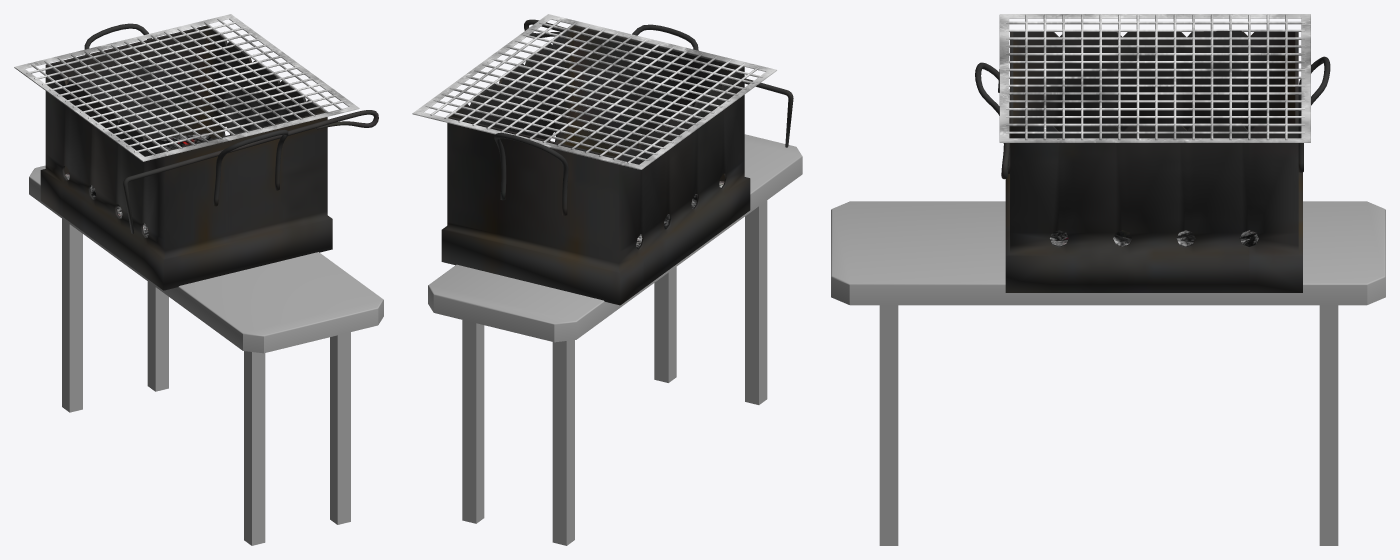
Rendered from scene_barbecue.fbx.
3 views of the same model, side by side, from view 1: azimuth 30°, elevation 25°; view 2: azimuth 150°, elevation 25°; view 3: azimuth 270°, elevation 25° (orthographic). The views are drawn at different scales.
Parts seen in each view (by area): view 1: scene_barbecue_part1, scene_barbecue_part0, scene_barbecue_part3, scene_barbecue_part2; view 2: scene_barbecue_part1, scene_barbecue_part0, scene_barbecue_part3; view 3: scene_barbecue_part1, scene_barbecue_part0, scene_barbecue_part3, scene_barbecue_part2.
Boxes of the visible parts, <box> form: scene_barbecue_part1: <box>40,23,378,290</box>; scene_barbecue_part0: <box>29,165,383,545</box>; scene_barbecue_part3: <box>14,14,359,161</box>; scene_barbecue_part2: <box>65,133,211,237</box>; scene_barbecue_part1: <box>441,19,793,305</box>; scene_barbecue_part0: <box>428,134,802,545</box>; scene_barbecue_part3: <box>412,14,776,169</box>; scene_barbecue_part1: <box>975,30,1330,292</box>; scene_barbecue_part0: <box>831,201,1385,545</box>; scene_barbecue_part3: <box>999,14,1310,142</box>; scene_barbecue_part2: <box>1050,230,1258,246</box>.
Size of the model in its own units: 64.17 by 89.49 by 100.
